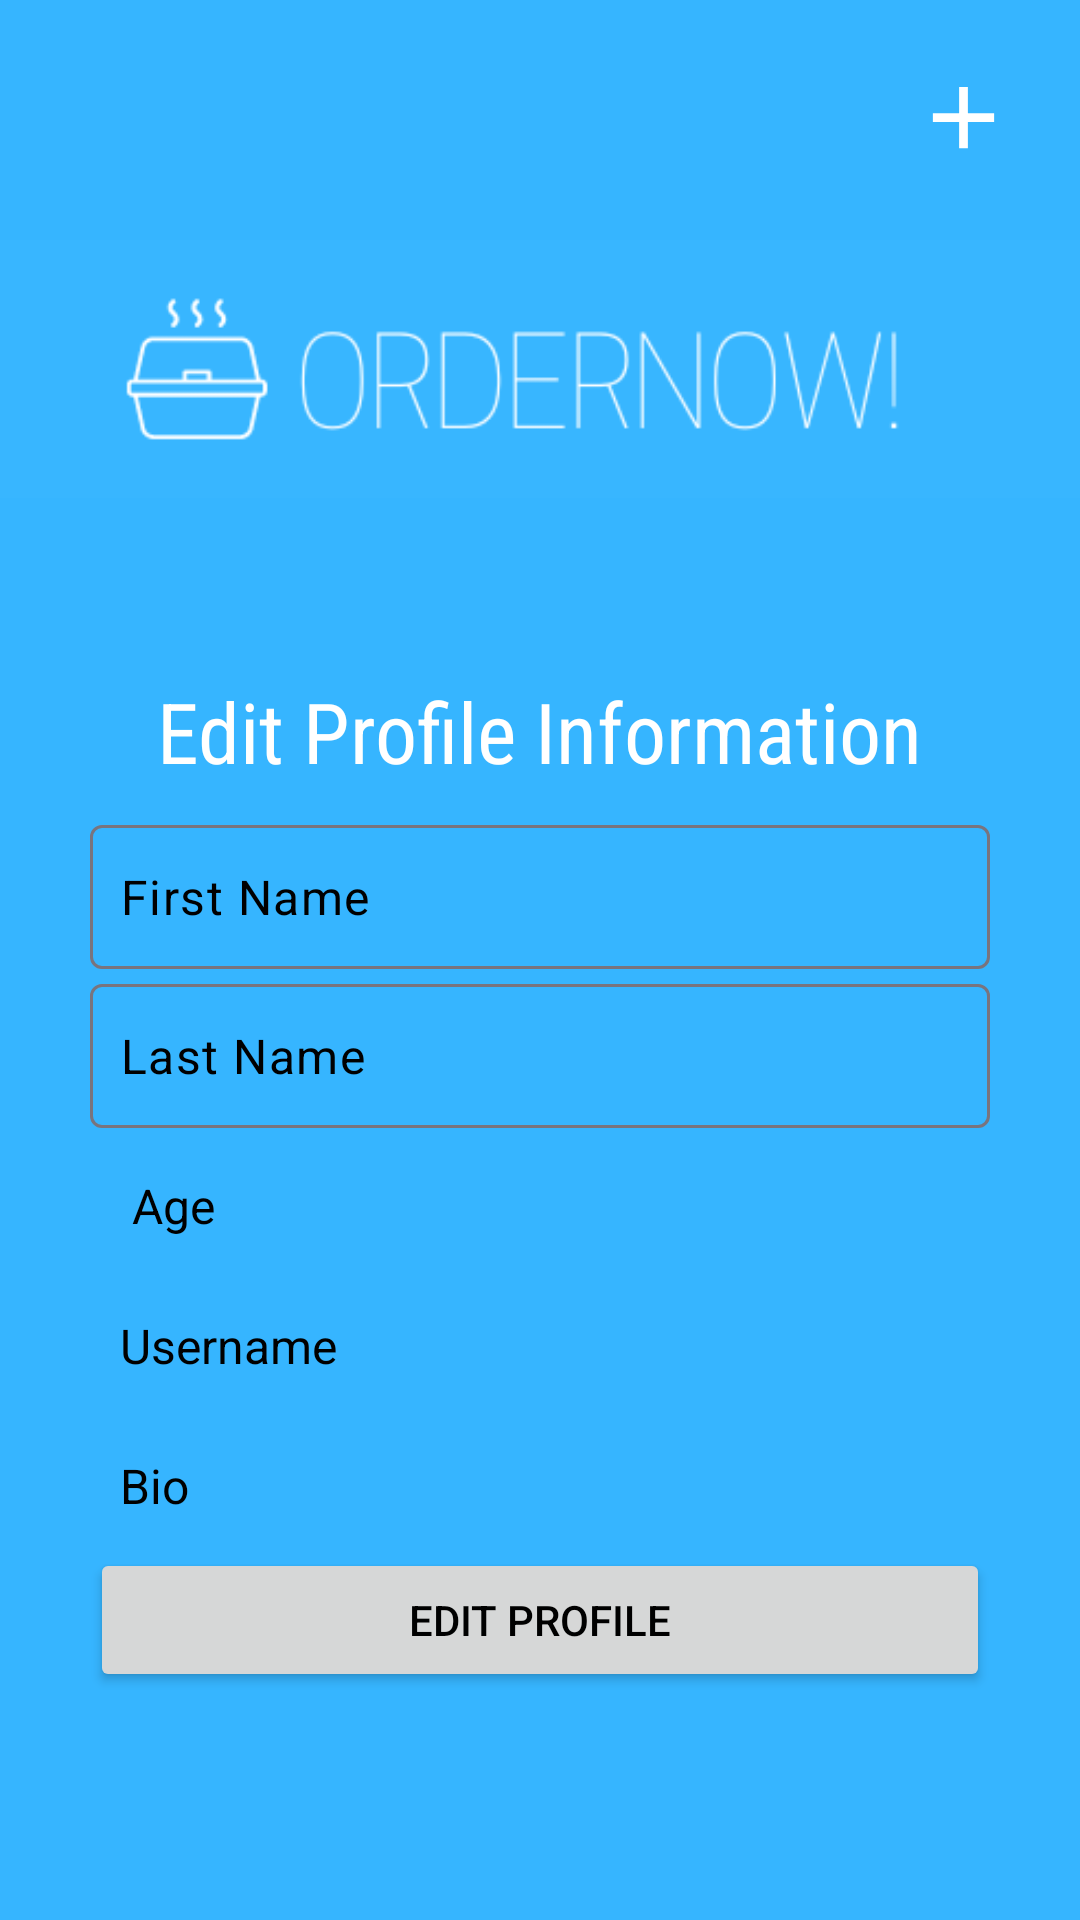

Screen size 1080w x 1920h. Icon name, then its center in pixels as (x,y):
addcontent: (963,118)
